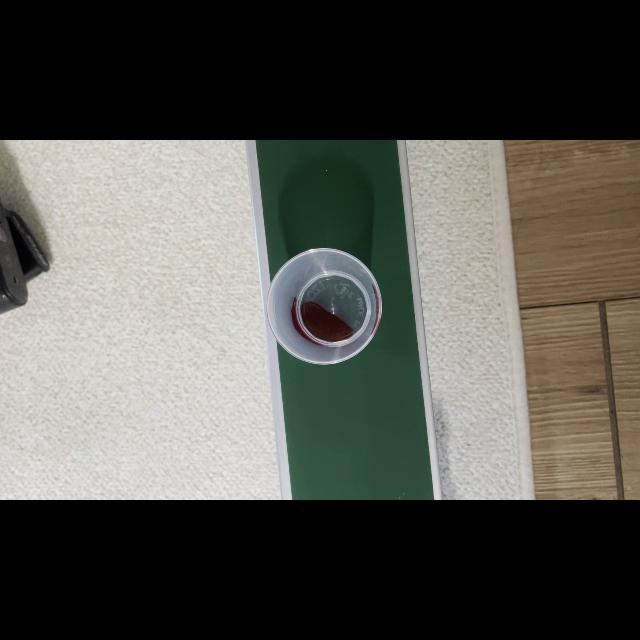dirty: (271, 254, 384, 358)
